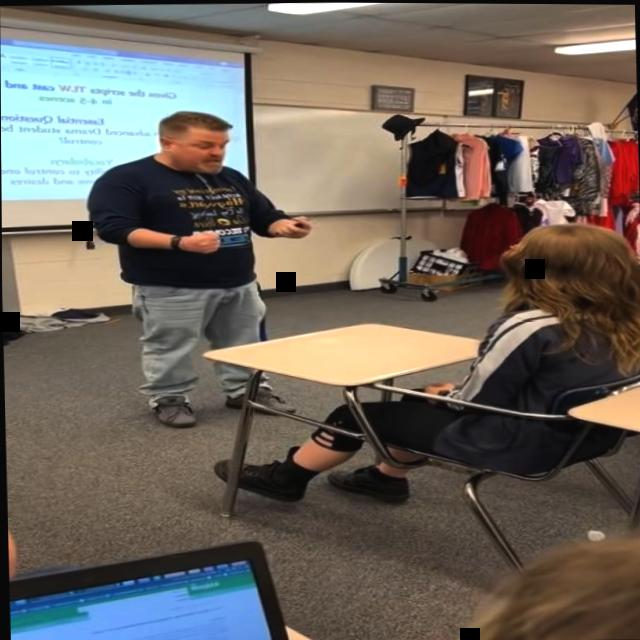NO-Mask: (156, 117, 232, 173)
